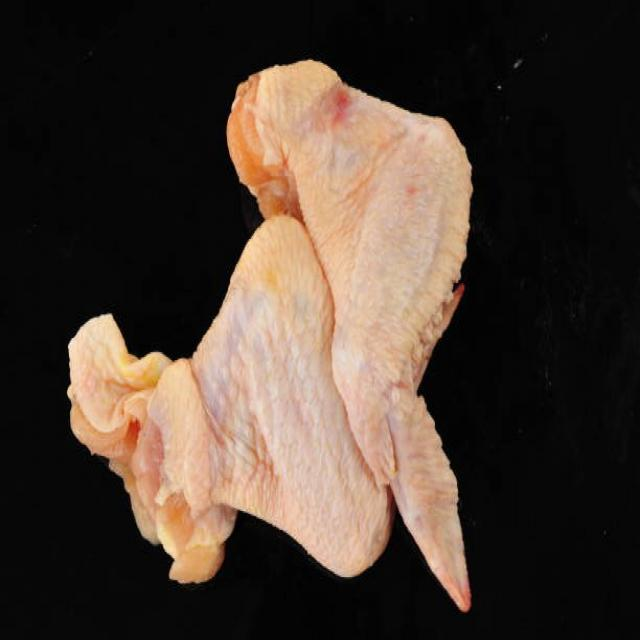Chicken: (75, 237, 428, 584), (309, 63, 504, 610)
